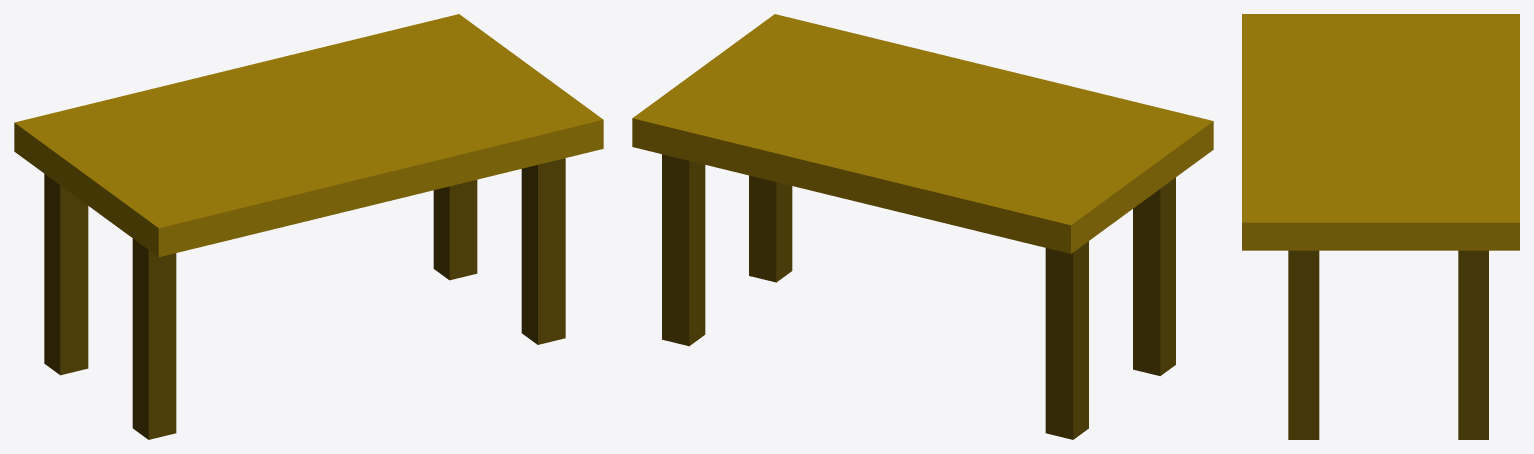
Rendered from table.gltf.
3 views of the same model, side by side, from view 1: azimuth 30°, elevation 25°; view 2: azimuth 150°, elevation 25°; view 3: azimuth 270°, elevation 25° (orthographic). The views are drawn at different scales.
Visible parts, largest first — view 1: cube (×5); view 2: cube (×5); view 3: cube (×3).
Boxes of the visible parts, x1,y1,x2,y2 form: cube (×5): (14, 14, 603, 439); cube (×5): (632, 14, 1213, 439); cube (×3): (1242, 14, 1519, 439).
Size of the model in its own units: 2 by 1 by 1.12.
1 material, 1 textured.
